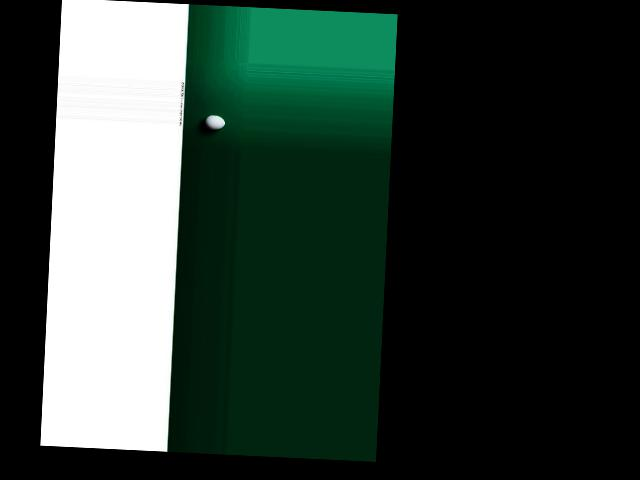egg: (203, 113, 224, 129)
